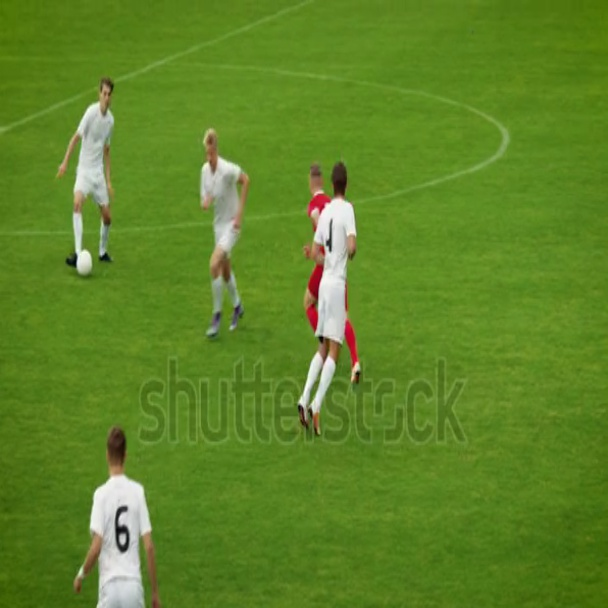ball: (76, 248, 93, 277)
